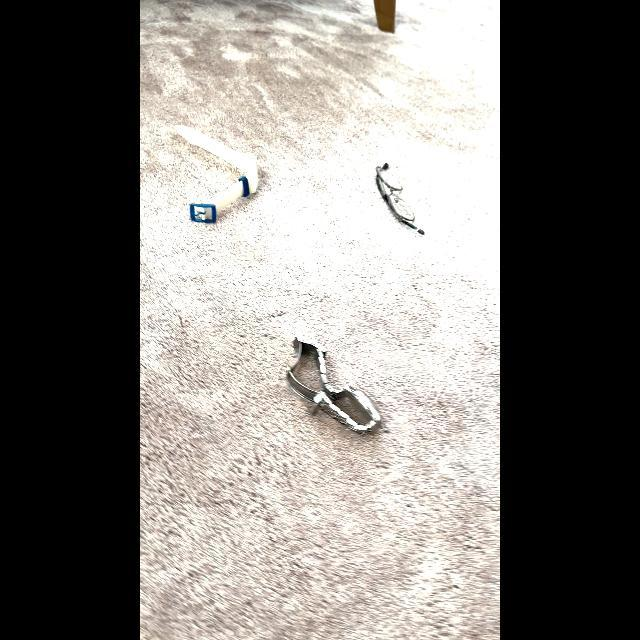eyewear: (368, 154, 432, 238)
